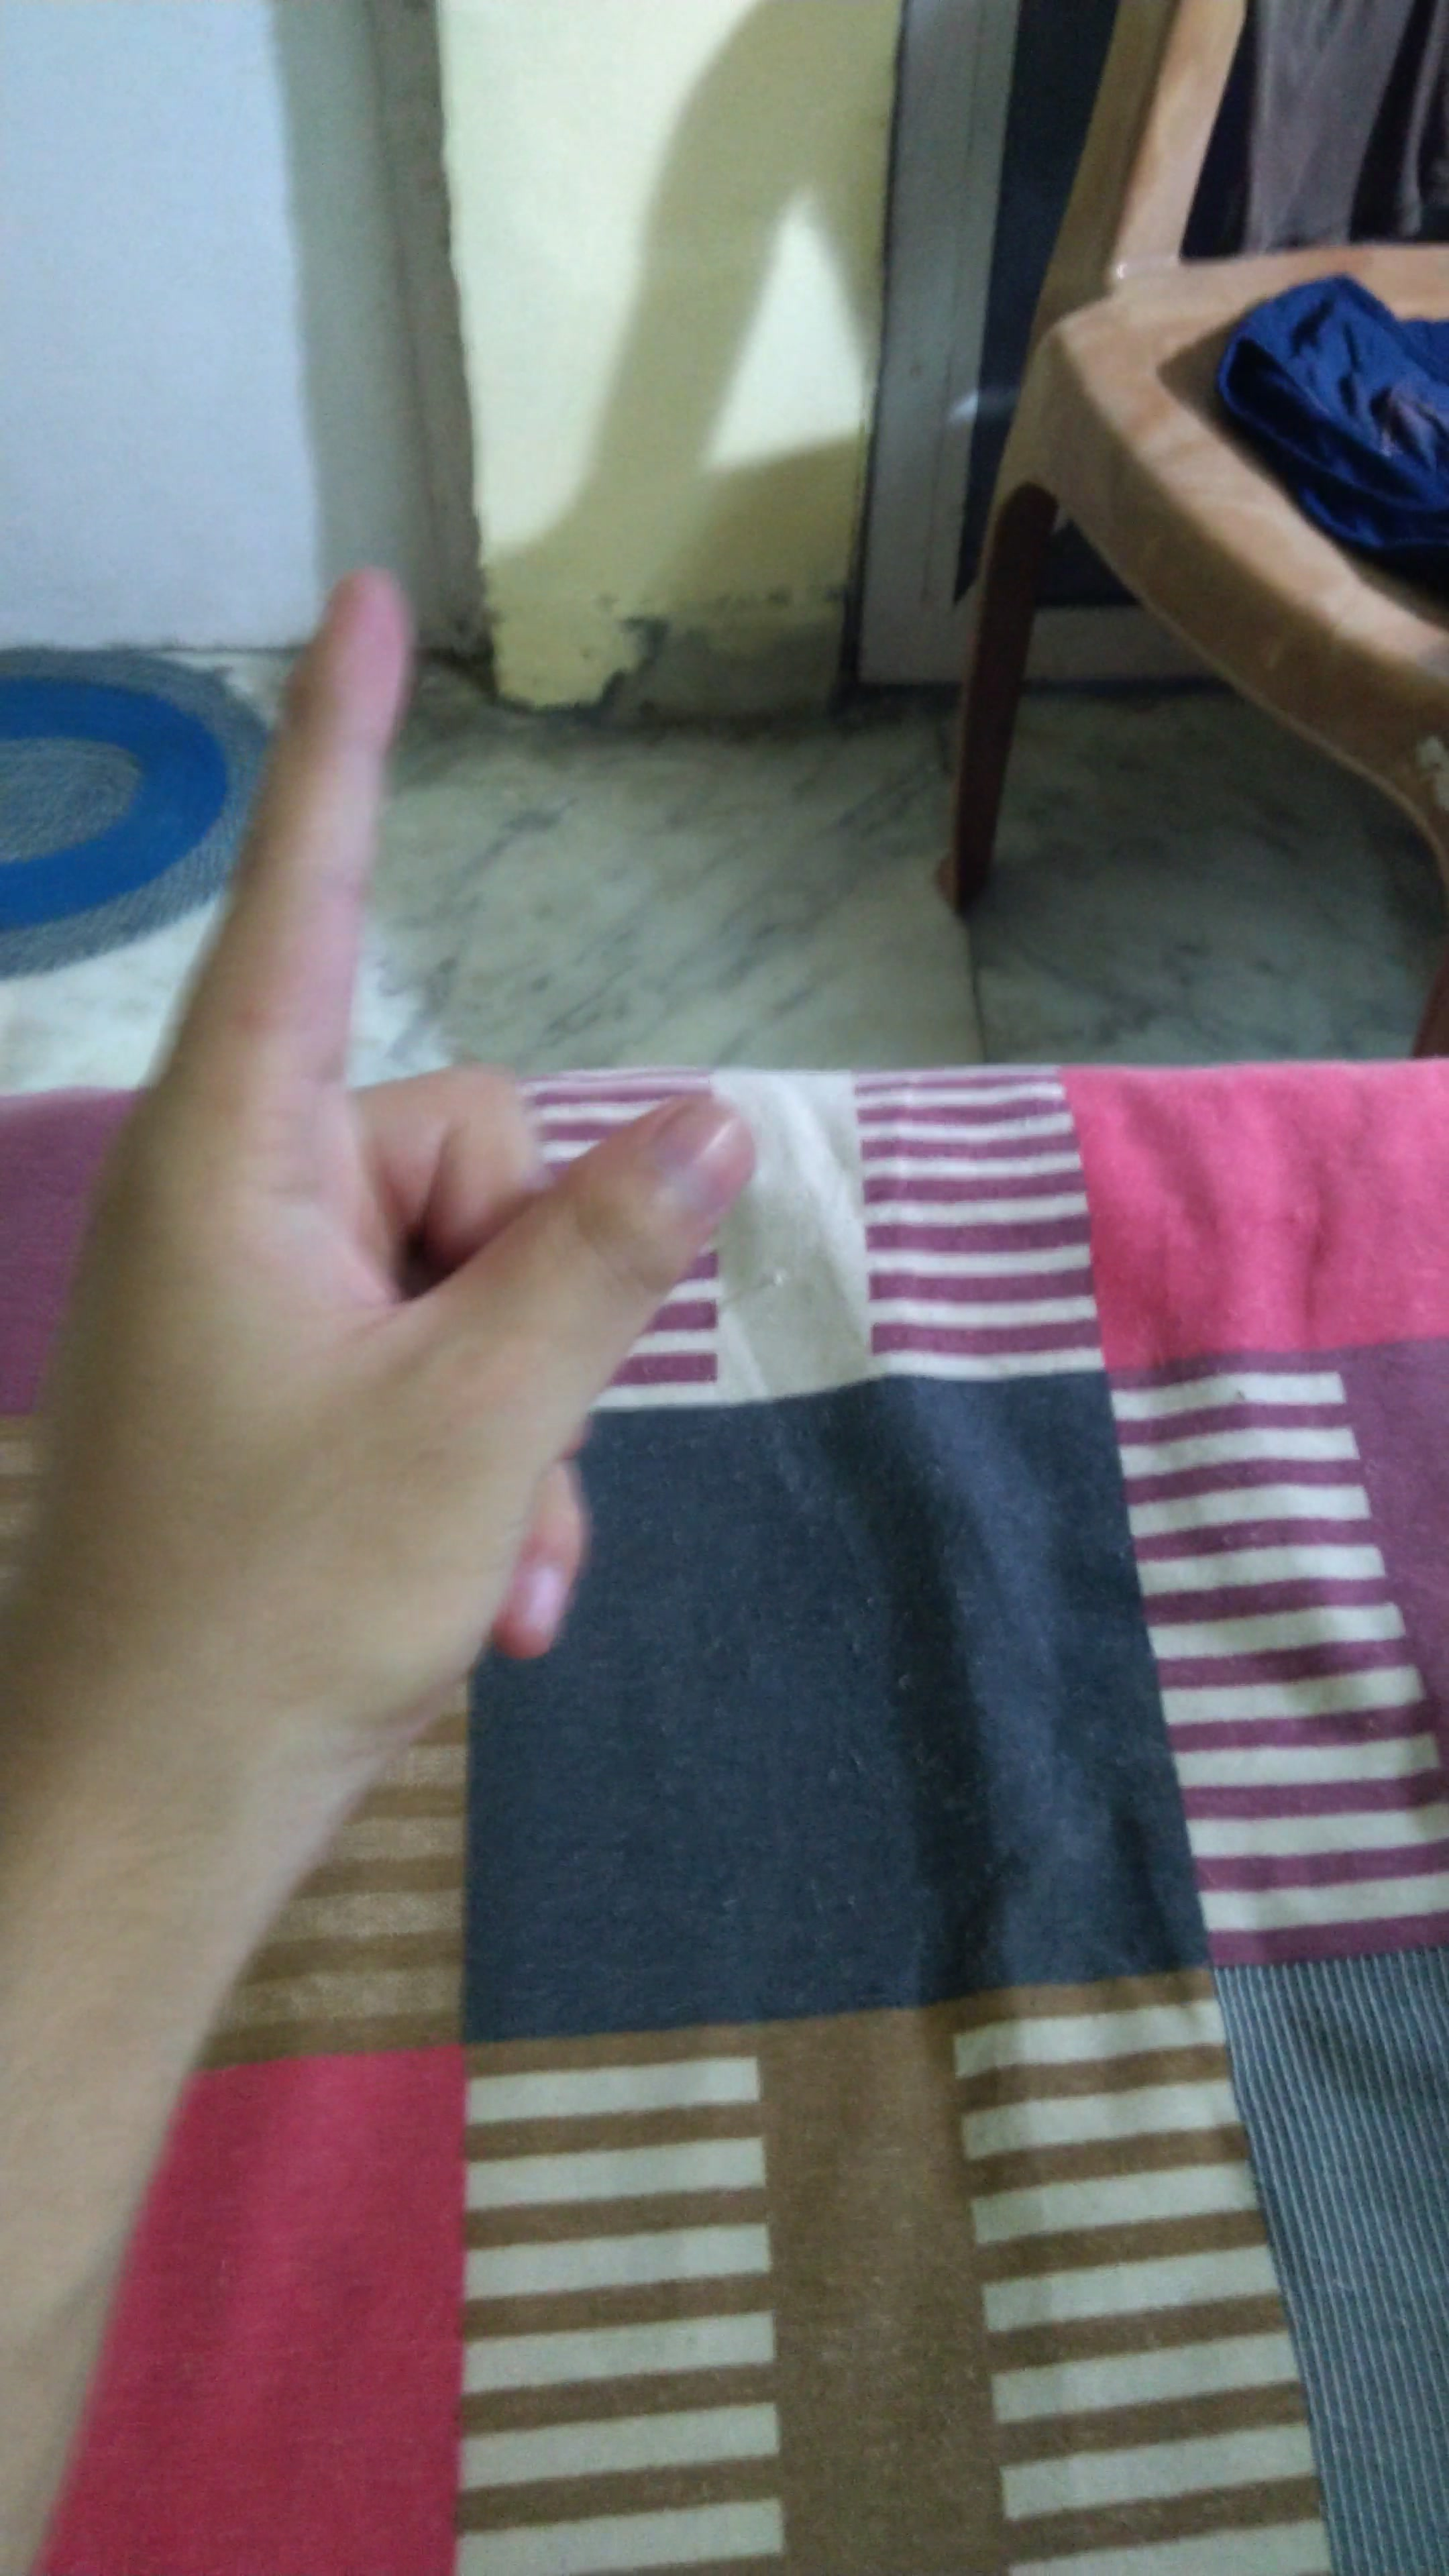hand: (16, 541, 885, 1771)
